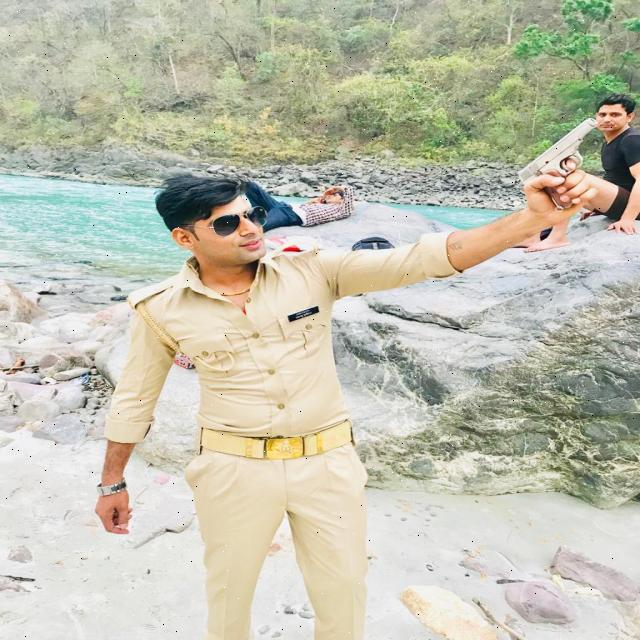gun: (501, 101, 616, 236)
